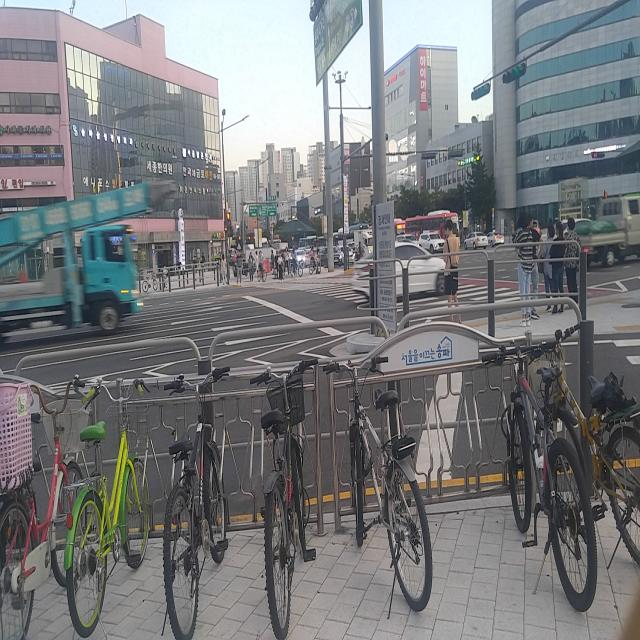횡단보도: (247, 280, 531, 320)
